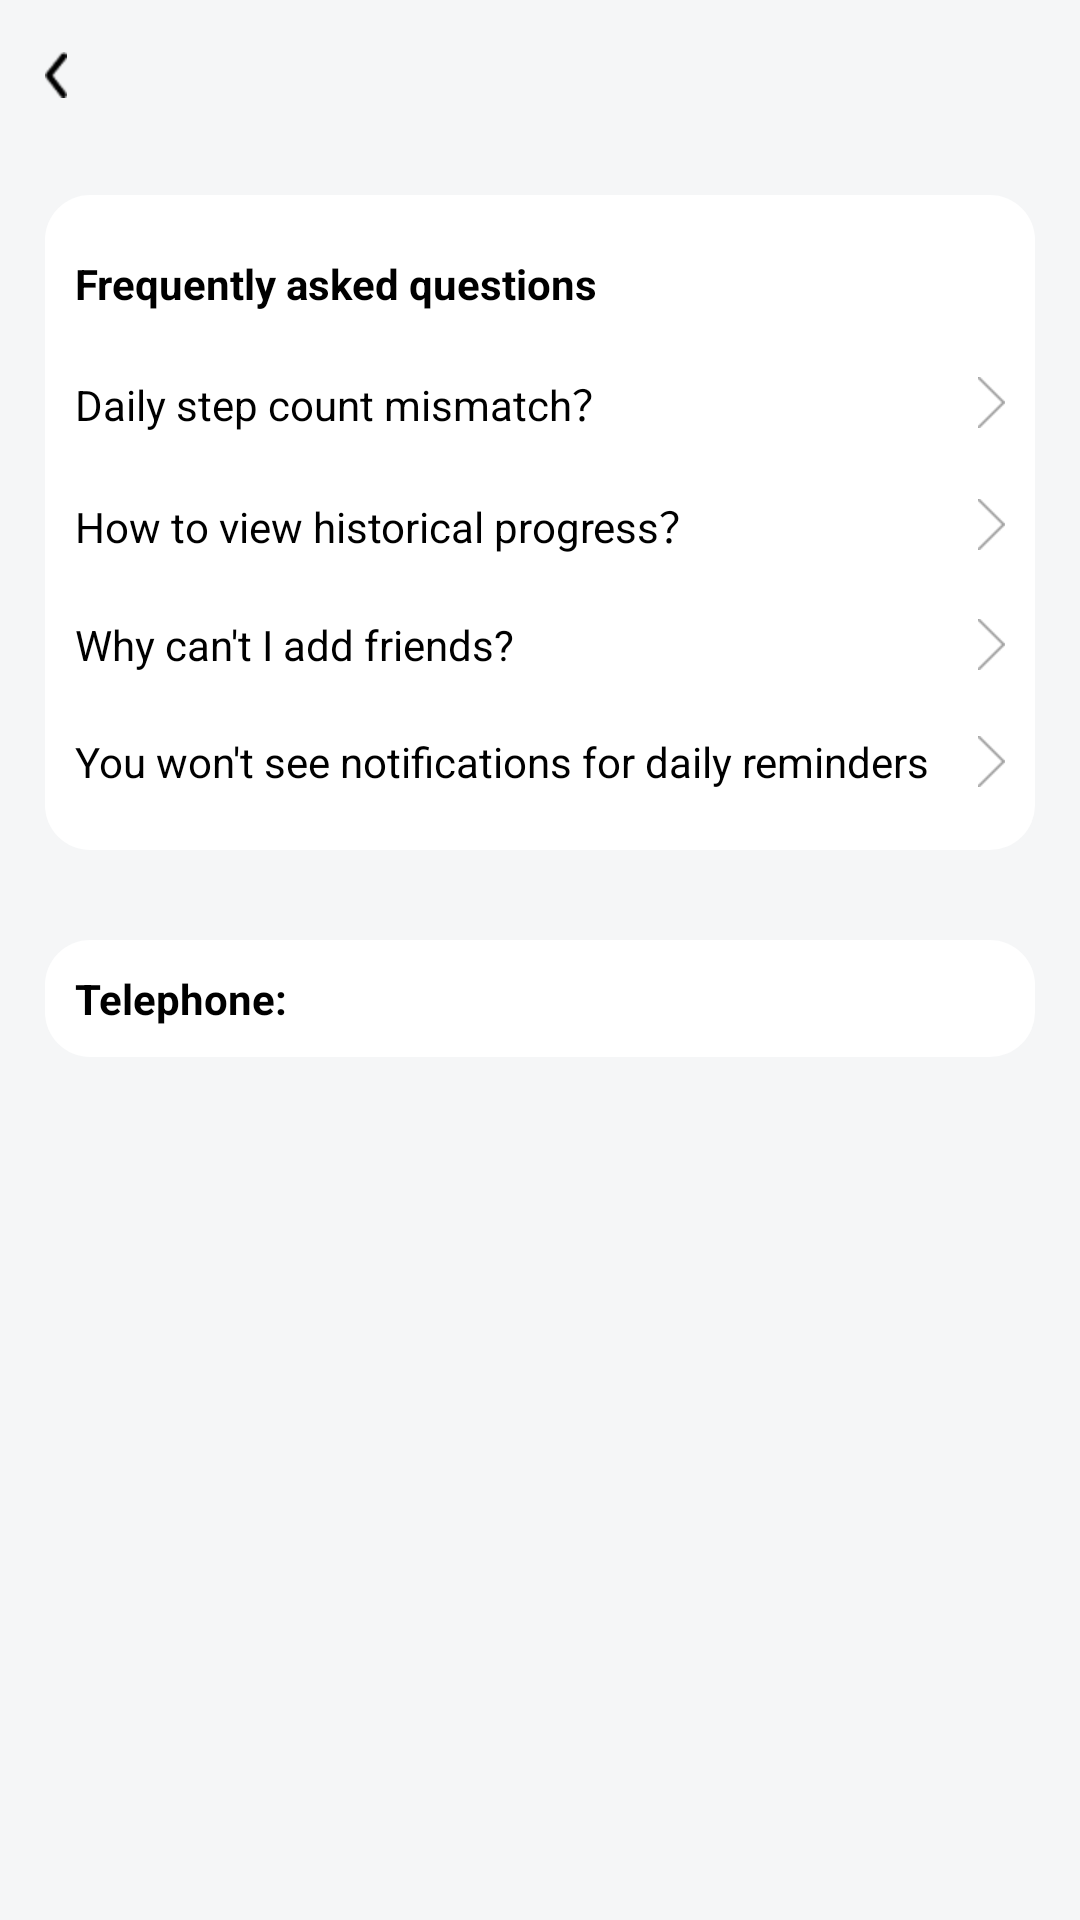

Icons on this 1080px×1920px Android screen, each with its box as (x1, y1, x2, y2):
left: (45, 52, 67, 98)
